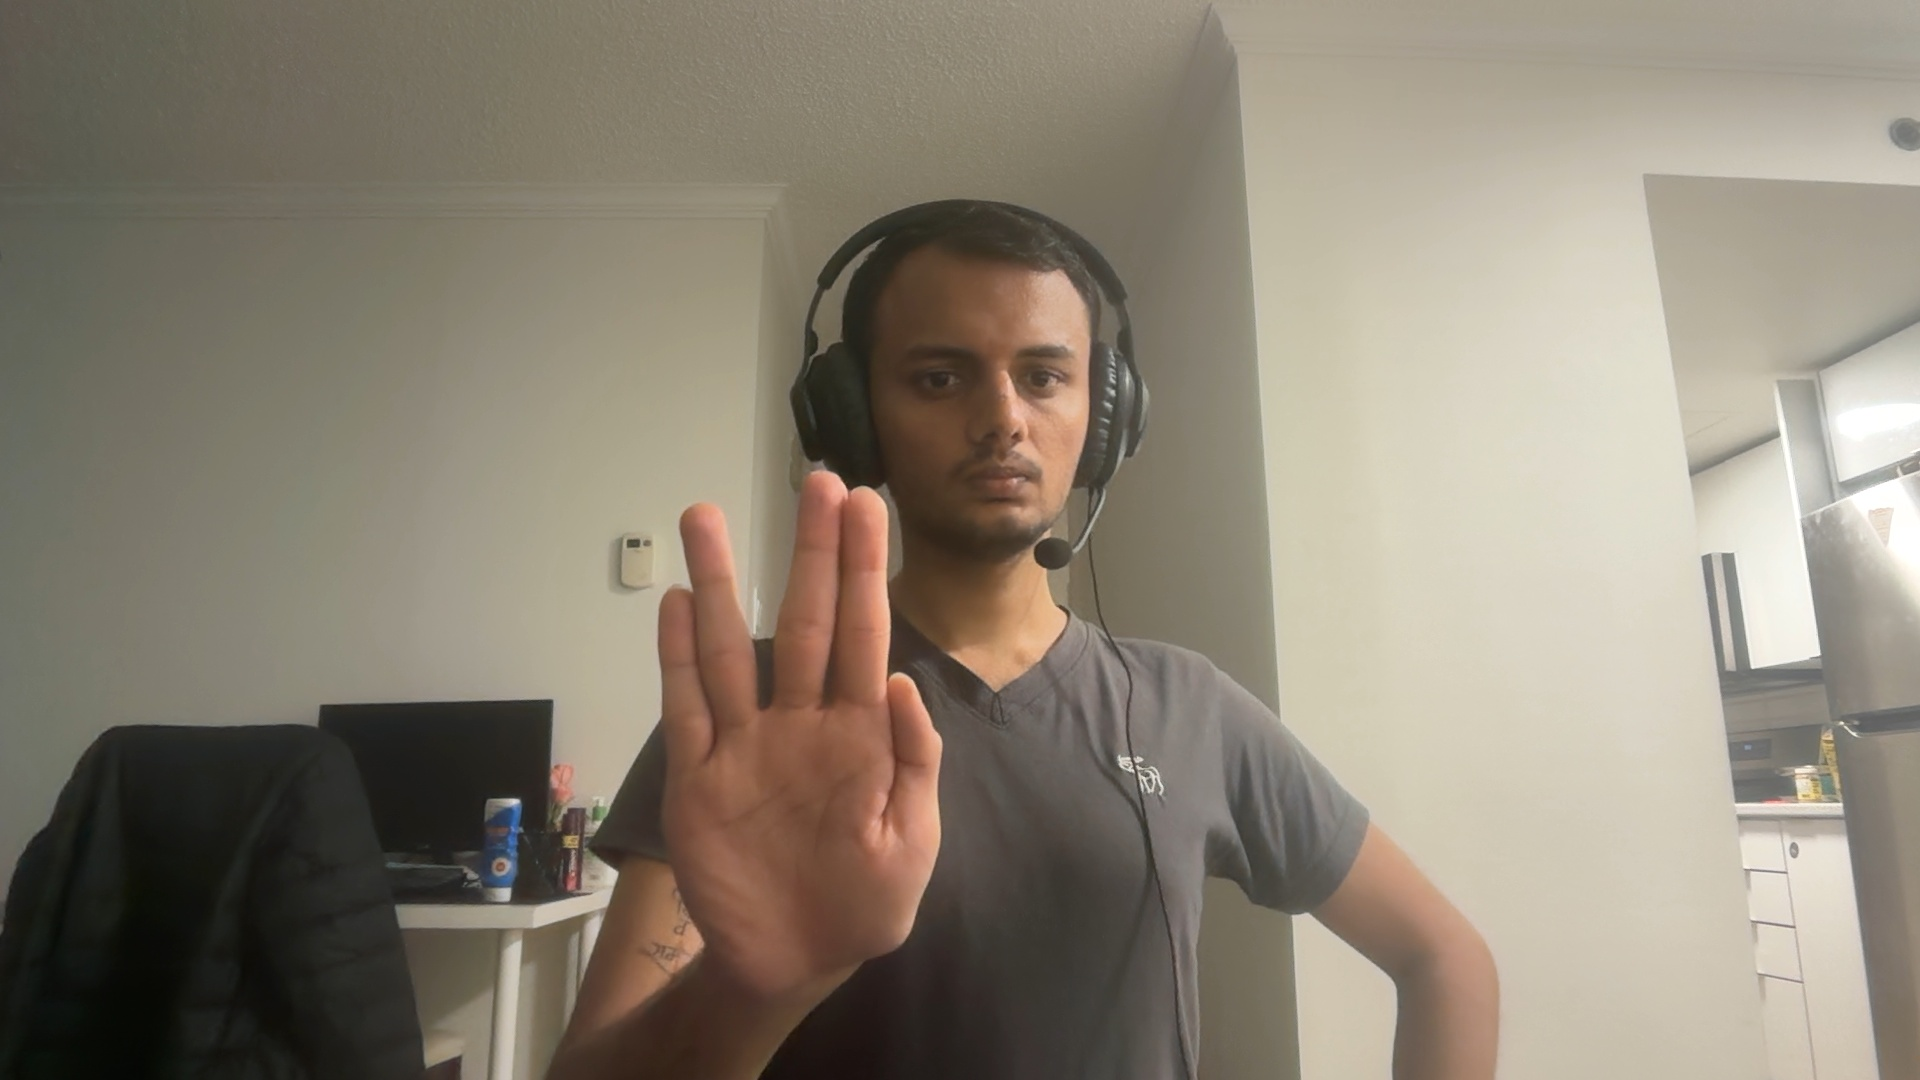livelong: (658, 469, 942, 990)
